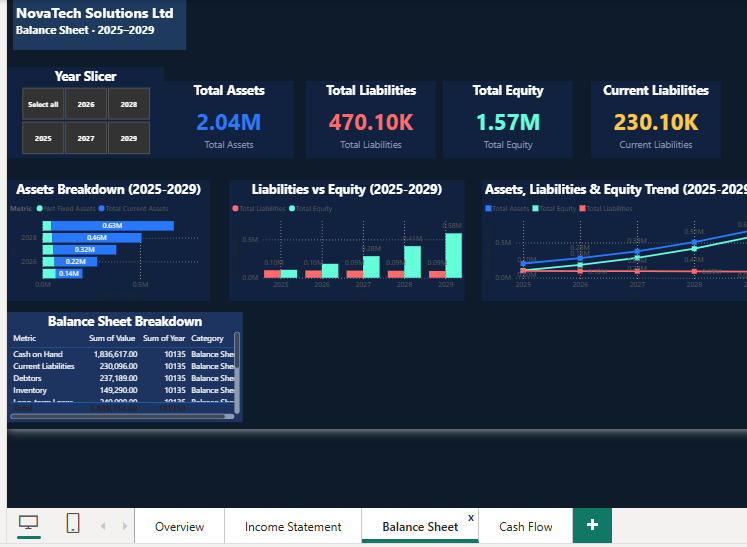

The dashboard page shown, as its layout file describes it:
{"tool":"powerbi","page":{"name":"Balance Sheet","canvas":[1280,720],"ordinal":2},"visuals":[{"type":"textbox","box":[10.1,0,290.6,84],"z":0},{"type":"slicer","title":"Year Slicer","fields":{"Values":["NovaTech Solutions Ltd  (FinancialData).Year"]},"box":[10,113.3,318.3,150],"z":1000},{"type":"card","title":"Total Assets","fields":{"Values":["NovaTech Solutions Ltd  (FinancialData).Total Assets"]},"box":[396.7,136.7,200,110],"z":2000},{"type":"card","title":" Total Liabilities","fields":{"Values":["NovaTech Solutions Ltd  (FinancialData).Total Liabilities"]},"box":[613.3,138.3,200,110],"z":3000},{"type":"card","title":"Total Equity","fields":{"Values":["NovaTech Solutions Ltd  (FinancialData).Total Equity"]},"box":[833.3,138.3,200,110],"z":4000},{"type":"card","title":"Current Liabilities","fields":{"Values":["NovaTech Solutions Ltd  (FinancialData).Current Liabilities"]},"box":[1055,136.7,200,110],"z":5000},{"type":"barChart","title":"Assets Breakdown (2025-2029)","fields":{"Category":["NovaTech Solutions Ltd  (FinancialData).Year"],"Y":["Sum(NovaTech Solutions Ltd  (FinancialData).Value)"],"Series":["NovaTech Solutions Ltd  (FinancialData).Metric"]},"box":[0,302.4,341,203.3],"z":6000},{"type":"clusteredColumnChart","title":"Liabilities vs Equity (2025-2029)","fields":{"Category":["NovaTech Solutions Ltd  (FinancialData).Year"],"Y":["NovaTech Solutions Ltd  (FinancialData).Total Liabilities","NovaTech Solutions Ltd  (FinancialData).Total Equity"]},"box":[372.9,302.4,396.4,203.3],"z":7000},{"type":"lineChart","title":"Assets, Liabilities & Equity Trend (2025-2029)","fields":{"Category":["NovaTech Solutions Ltd  (FinancialData).Year"],"Y":["NovaTech Solutions Ltd  (FinancialData).Total Assets","NovaTech Solutions Ltd  (FinancialData).Total Equity","NovaTech Solutions Ltd  (FinancialData).Total Liabilities"]},"box":[797.9,302.4,470.3,203.3],"z":8000},{"type":"tableEx","title":"Balance Sheet Breakdown","fields":{"Values":["NovaTech Solutions Ltd  (FinancialData).Metric","Sum(NovaTech Solutions Ltd  (FinancialData).Value)","Sum(NovaTech Solutions Ltd  (FinancialData).Year)"]},"box":[0,524.1,396.4,184.8],"z":9000}]}

Visuals, with their boxes on the page's 1280x720 design canvas (x1, y1, x2, y2). These are canvas units, not pixel positions in the 747x547 screenshot, which may show the page scaled, cropped or inside an application window:
textbox: {"left": 10, "top": 0, "right": 301, "bottom": 84}
"Year Slicer" slicer: {"left": 10, "top": 113, "right": 328, "bottom": 263}
"Total Assets" card: {"left": 397, "top": 137, "right": 597, "bottom": 247}
" Total Liabilities" card: {"left": 613, "top": 138, "right": 813, "bottom": 248}
"Total Equity" card: {"left": 833, "top": 138, "right": 1033, "bottom": 248}
"Current Liabilities" card: {"left": 1055, "top": 137, "right": 1255, "bottom": 247}
"Assets Breakdown (2025-2029)" barChart: {"left": 0, "top": 302, "right": 341, "bottom": 506}
"Liabilities vs Equity (2025-2029)" clusteredColumnChart: {"left": 373, "top": 302, "right": 769, "bottom": 506}
"Assets, Liabilities & Equity Trend (2025-2029)" lineChart: {"left": 798, "top": 302, "right": 1268, "bottom": 506}
"Balance Sheet Breakdown" tableEx: {"left": 0, "top": 524, "right": 396, "bottom": 709}
